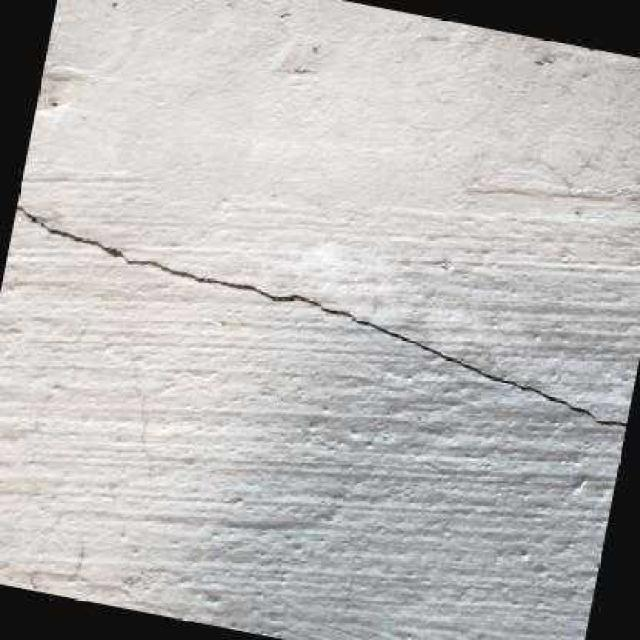D00: (16, 203, 626, 428)
